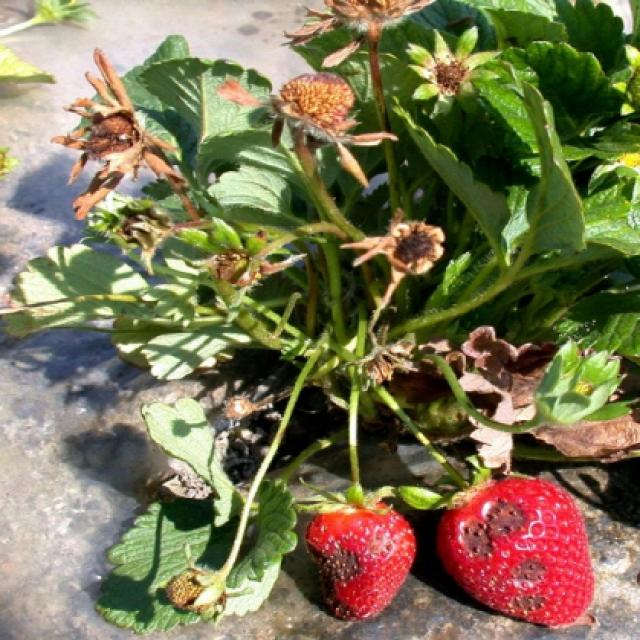Anthracnose Fruit Rot: (454, 497, 552, 613), (306, 530, 399, 622)
